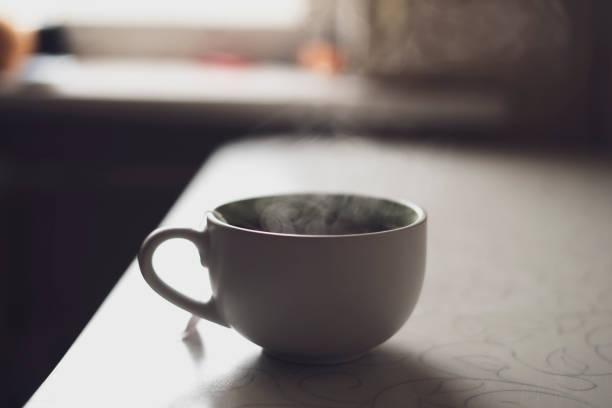cup-handle: (137, 187, 430, 366)
